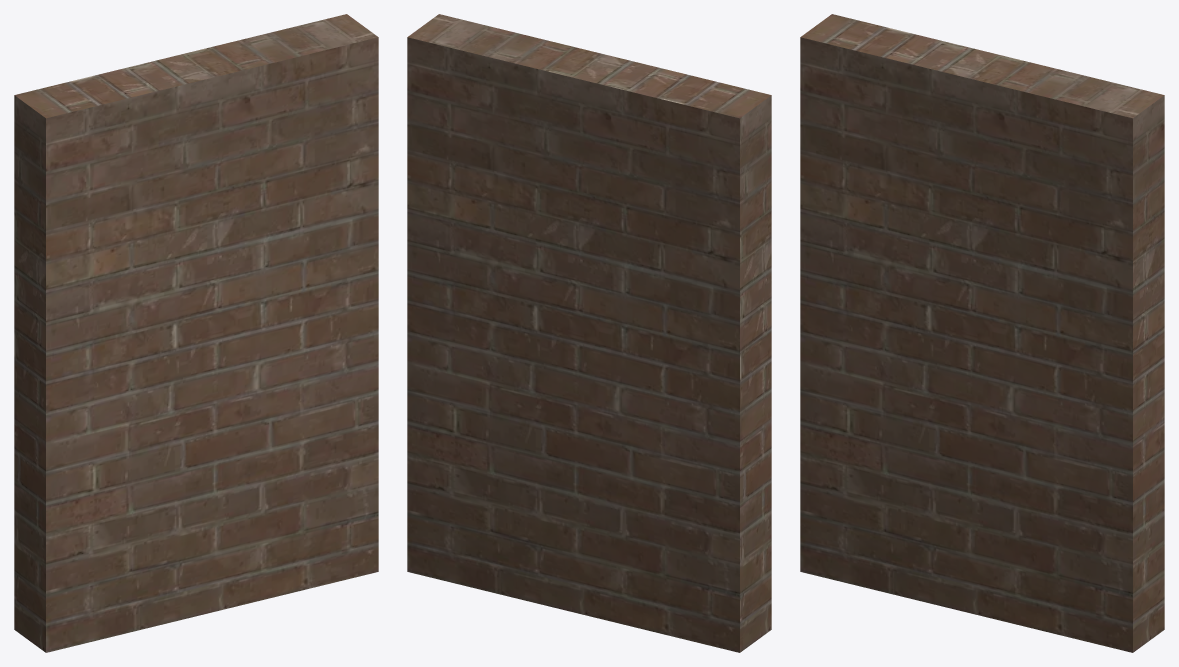
The model's file is wh_window_c.glb.
3 views of the same model, side by side, from view 1: azimuth 30°, elevation 25°; view 2: azimuth 150°, elevation 25°; view 3: azimuth 330°, elevation 25° (orthographic).
Parts seen in each view (by area): view 1: wh_window_c; view 2: wh_window_c; view 3: wh_window_c.
Part boxes in pixels (x1,y1,x2,y2): wh_window_c: [14, 14, 378, 652]; wh_window_c: [407, 14, 771, 652]; wh_window_c: [800, 14, 1164, 652].
Size of the model in its own units: 1.21 by 1.85 by 0.1996.
1 material, 1 textured.
